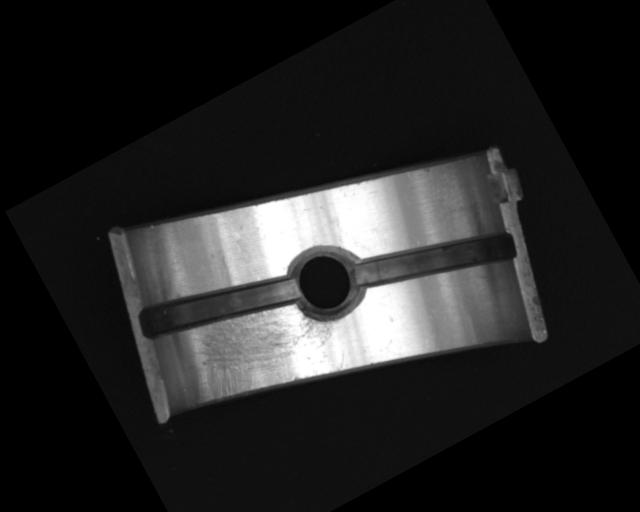gap: (132, 237, 307, 374), (348, 190, 521, 328)
hole: (275, 229, 377, 333)
scratch: (163, 264, 353, 440)
